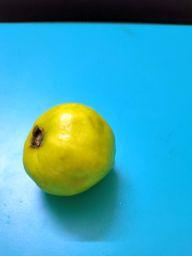guava: (17, 100, 118, 200)
